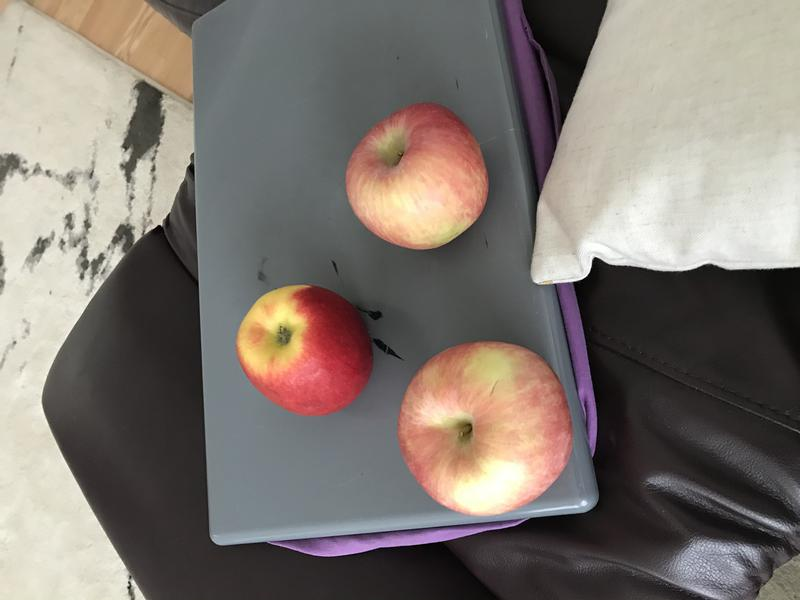red_apple: (387, 328, 586, 524), (333, 94, 496, 256), (229, 272, 378, 425)
